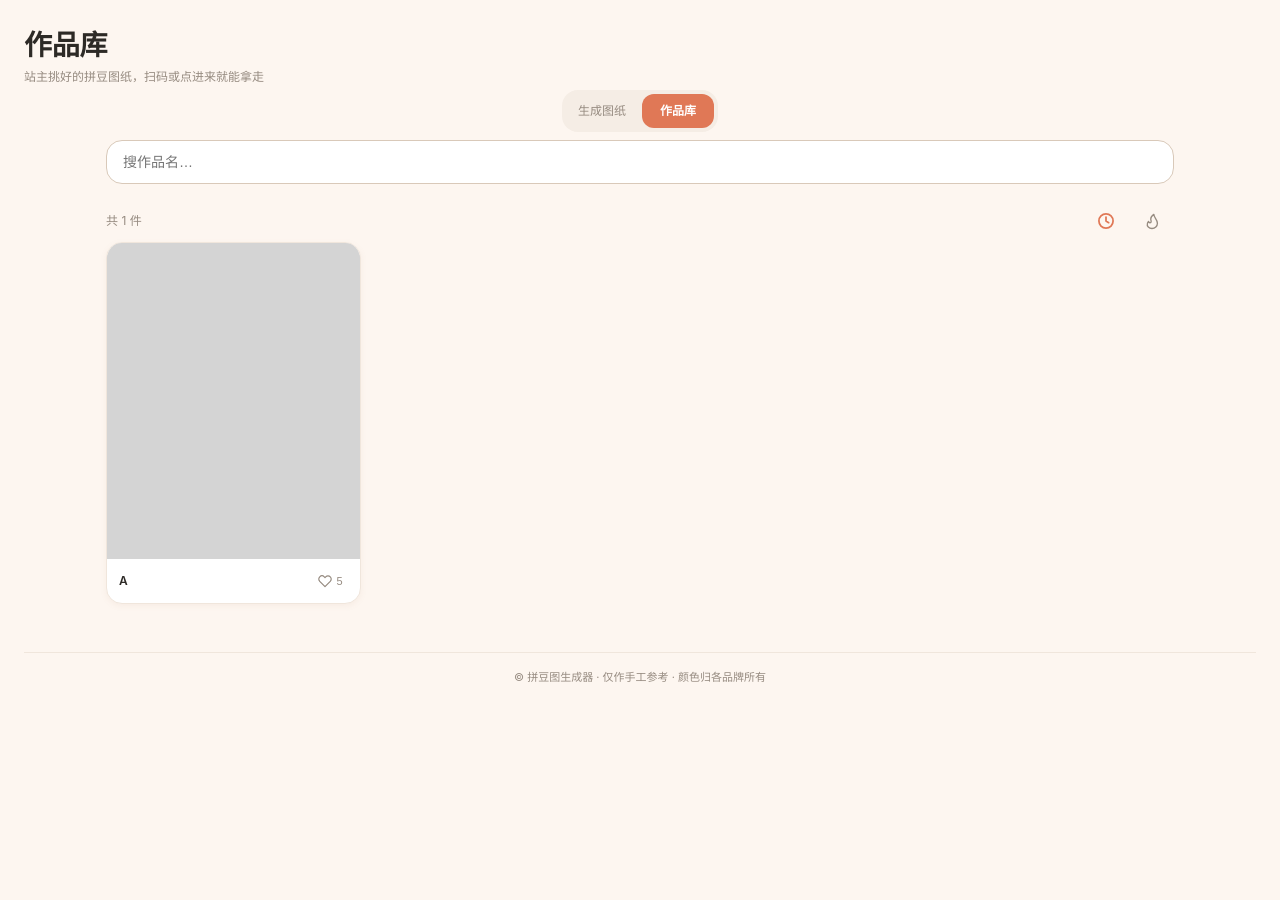
Test: 点赞按钮 › 点一下调 likeWork 并更新数字
Expected: the text "A" is shown, x1=119 y1=573 x2=128 y2=588
Click the button named "5 次点赞" at [330, 581], box x1=308 y1=559 x2=352 y2=603
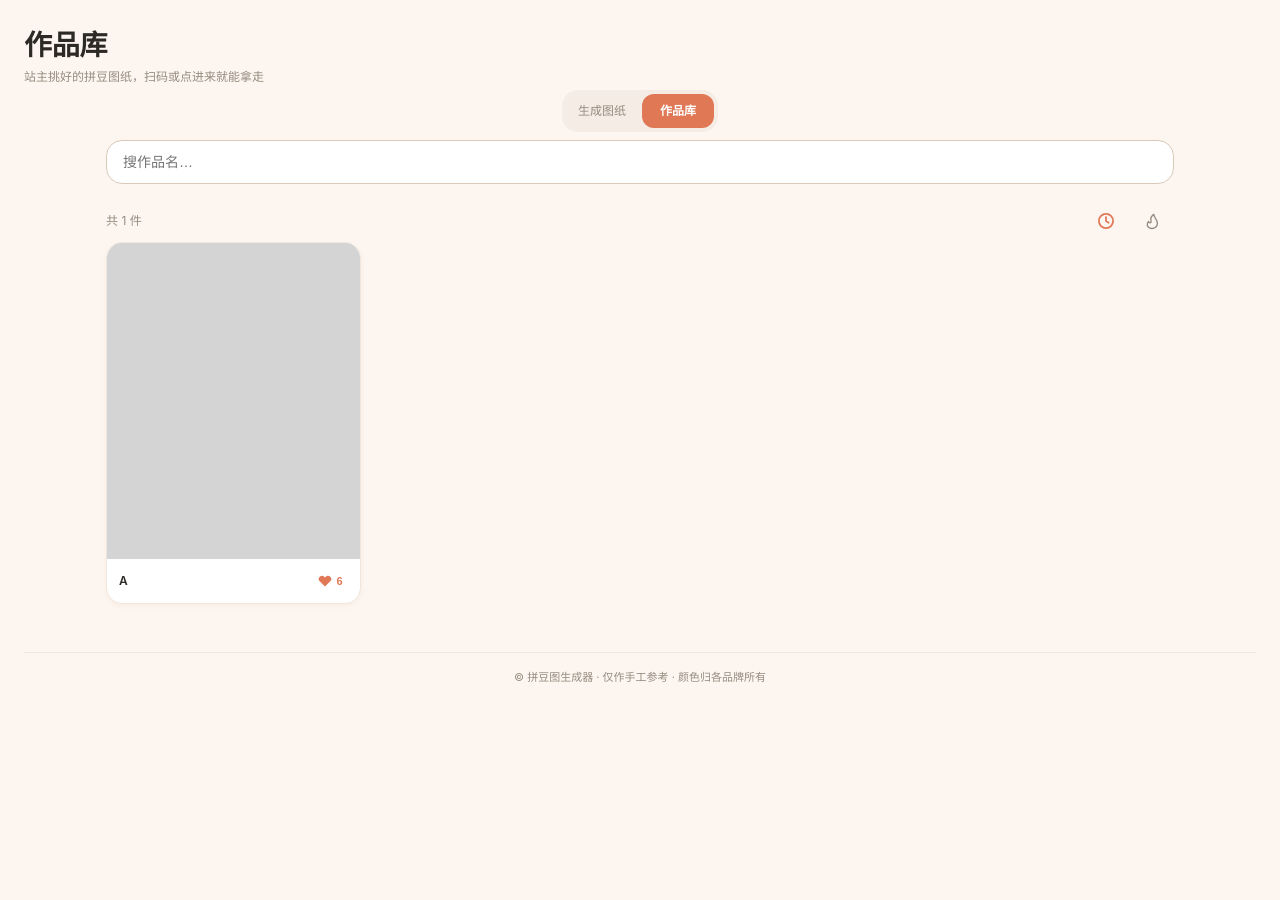
Now the button named "6 次点赞" is shown, box x1=308 y1=559 x2=352 y2=603
